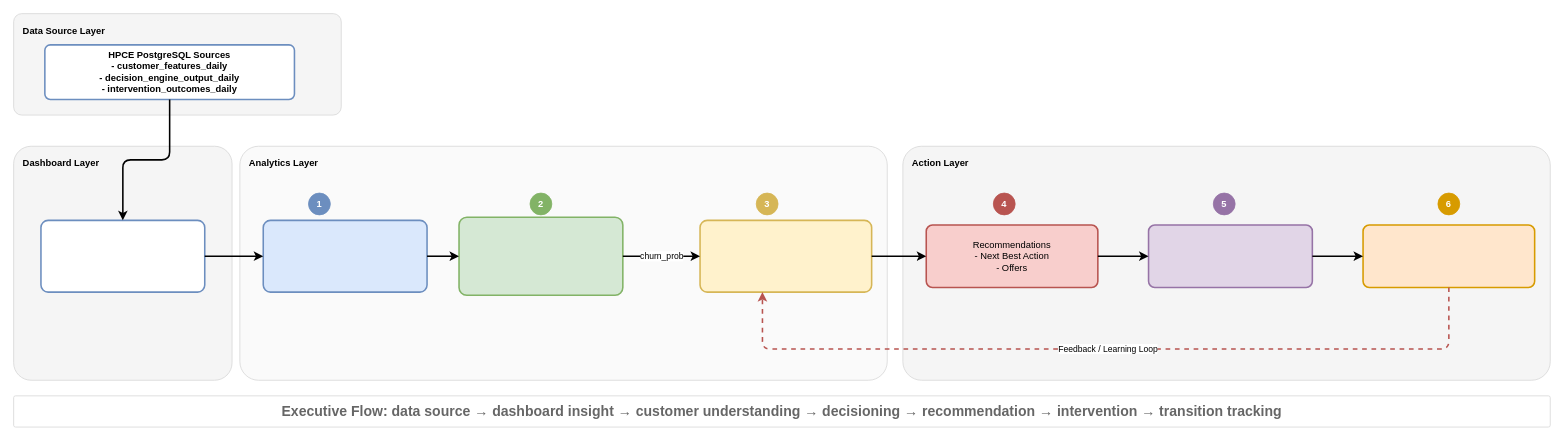
The diagram is 1564 pixels wide and 441 high, and some of its shapes have lost their labels. Each missing label, with the centre of its shape:
"Customer 360 - Segments - Behavior insights" belongs at (540,256).
"Decision Engine (ML + Rules) - Scoring - Risk bands - Prioritization" belongs at (785,255).
"Executive Overview - KPIs - Churn Rate - Revenue / Response" belongs at (344,255).
"Interventions - Campaigns - Alerts" belongs at (1230,256).
"Power BI Dashboard - Executive Overview - Customer 360 - Decision Insights" belongs at (122,255).
"Transitions - Lifecycle Movement - Status Changes" belongs at (1448,256).
